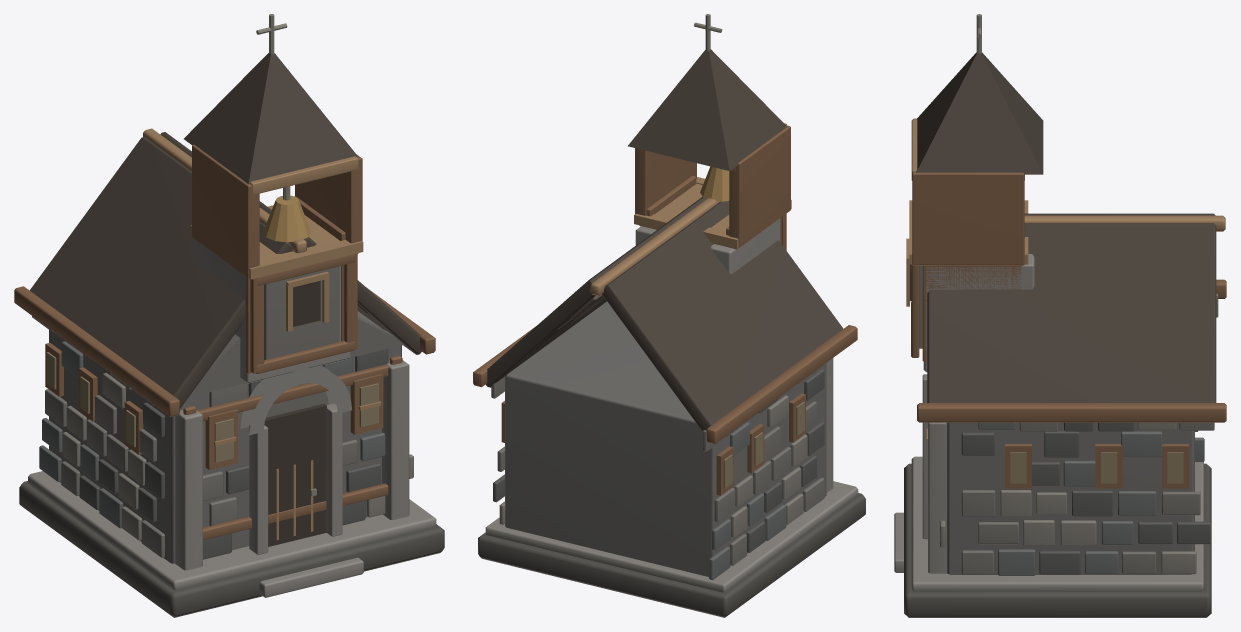
The model's file is igreja_corvin.glb.
3 views of the same model, side by side, from view 1: azimuth 30°, elevation 25°; view 2: azimuth 150°, elevation 25°; view 3: azimuth 270°, elevation 25° (orthographic). The views are drawn at different scales.
Parts seen in each view (by area): view 1: Água do telhado, Telhado piramidal da torre, Fundação de pedra, Nave de pedra, Piso elevado, Vão escuro da igreja, Montante do campanário, Contraforte de canto, Contraforte de canto.001, Beiral escuro, Face frontal da torre, Montante do campanário.001 (+38 smaller); view 2: Nave de pedra, Água do telhado, Telhado piramidal da torre, Fundação de pedra, Piso elevado, Montante do campanário, Água do telhado.001, Beiral escuro, Montante do campanário.001, Base da torre, Cumeeira, Contraforte de canto (+7 smaller); view 3: Água do telhado.001, Nave de pedra, Telhado piramidal da torre, Montante do campanário.001, Fundação de pedra, Piso elevado, Beiral escuro.001, Base da torre, Contraforte de canto.001, Pilar de canto da torre.001, Cumeeira, Bloco de pedra lateral.044 (+32 smaller).
Boxes of the visible parts, box(x1,y1,x2,y2) form: Água do telhado: box(30, 136, 292, 408); Telhado piramidal da torre: box(184, 53, 358, 184); Fundação de pedra: box(19, 481, 444, 617); Nave de pedra: box(49, 311, 401, 563); Piso elevado: box(28, 471, 436, 589); Vão escuro da igreja: box(264, 403, 326, 546); Montante do campanário: box(192, 144, 259, 278); Contraforte de canto: box(175, 410, 202, 570); Contraforte de canto.001: box(382, 359, 409, 519); Beiral escuro: box(14, 286, 179, 416); Face frontal da torre: box(264, 266, 339, 359); Montante do campanário.001: box(295, 154, 362, 243); Nave de pedra: box(505, 301, 826, 576); Água do telhado: box(602, 201, 843, 431); Telhado piramidal da torre: box(628, 49, 787, 170); Fundação de pedra: box(478, 493, 865, 617); Piso elevado: box(485, 481, 858, 592); Montante do campanário: box(729, 125, 790, 247); Água do telhado.001: box(486, 196, 706, 387); Beiral escuro: box(706, 325, 857, 443); Montante do campanário.001: box(635, 148, 696, 215); Base da torre: box(635, 218, 780, 274); Cumeeira: box(590, 198, 719, 295); Contraforte de canto: box(826, 358, 833, 492); Água do telhado.001: box(927, 223, 1216, 402); Nave de pedra: box(946, 422, 1194, 574); Telhado piramidal da torre: box(916, 52, 1043, 174); Montante do campanário.001: box(912, 172, 1024, 265); Fundação de pedra: box(904, 463, 1211, 617); Piso elevado: box(911, 456, 1203, 591); Beiral escuro.001: box(917, 403, 1226, 422); Base da torre: box(923, 254, 1034, 372); Contraforte de canto.001: box(928, 422, 946, 573); Pilar de canto da torre.001: box(922, 265, 1022, 361); Cumeeira: box(1024, 215, 1225, 231); Bloco de pedra lateral.044: box(1072, 490, 1113, 516).
Bounding box in the file's own units: 2.88 × 5.45 × 3.05.
